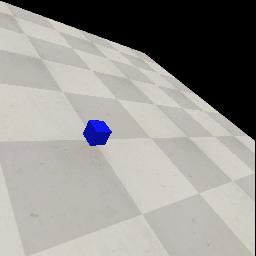box: (83, 119, 112, 146)
